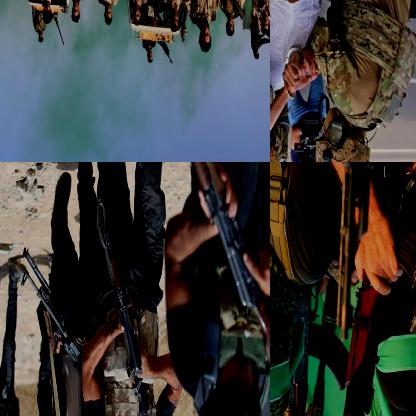rifle: (191, 162, 269, 406), (319, 248, 415, 415), (93, 188, 151, 415), (326, 162, 378, 341), (17, 243, 85, 368), (275, 295, 319, 415), (213, 0, 247, 23), (256, 25, 269, 69), (156, 40, 174, 65)
